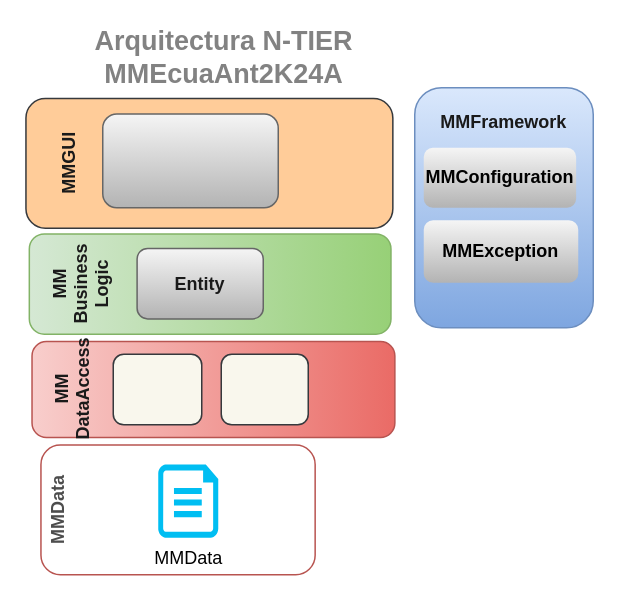
Image size: 621x602. Some labels were removed from this diagram. The centre of each missing label's shape, as x and y in pixels:
"MMDAO" belongs at point (157, 389).
"MMDTO" belongs at point (264, 389).
"MMUIComponent" belongs at point (189, 160).
